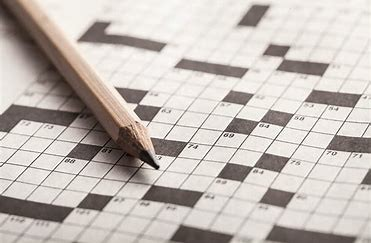pen: (1, 1, 161, 174)
